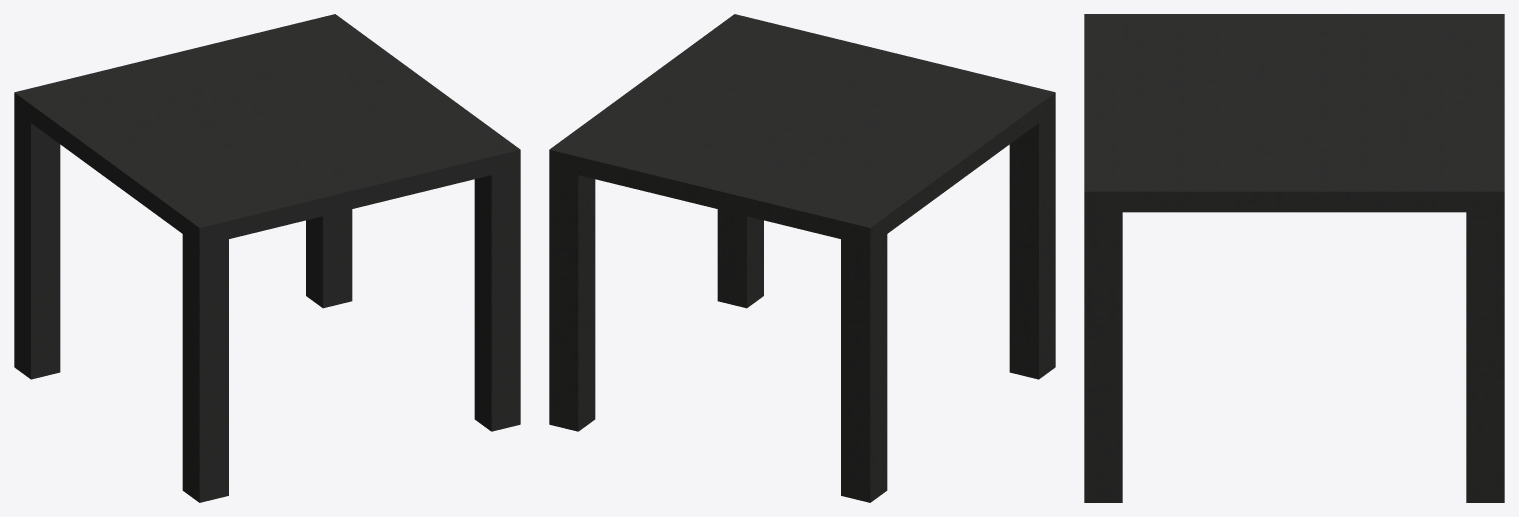
The model's file is table_small.dae.
3 views of the same model, side by side, from view 1: azimuth 30°, elevation 25°; view 2: azimuth 150°, elevation 25°; view 3: azimuth 270°, elevation 25° (orthographic). The views are drawn at different scales.
Visible parts, largest first — view 1: stolecek_maly v1; view 2: stolecek_maly v1; view 3: stolecek_maly v1.
Part boxes in pixels (x1,y1,x2,y2): stolecek_maly v1: [14, 14, 520, 502]; stolecek_maly v1: [549, 14, 1055, 502]; stolecek_maly v1: [1084, 14, 1504, 502].
Bounding box in the file's own units: 0.55 × 0.55 × 0.45.
1 material, 1 textured.
